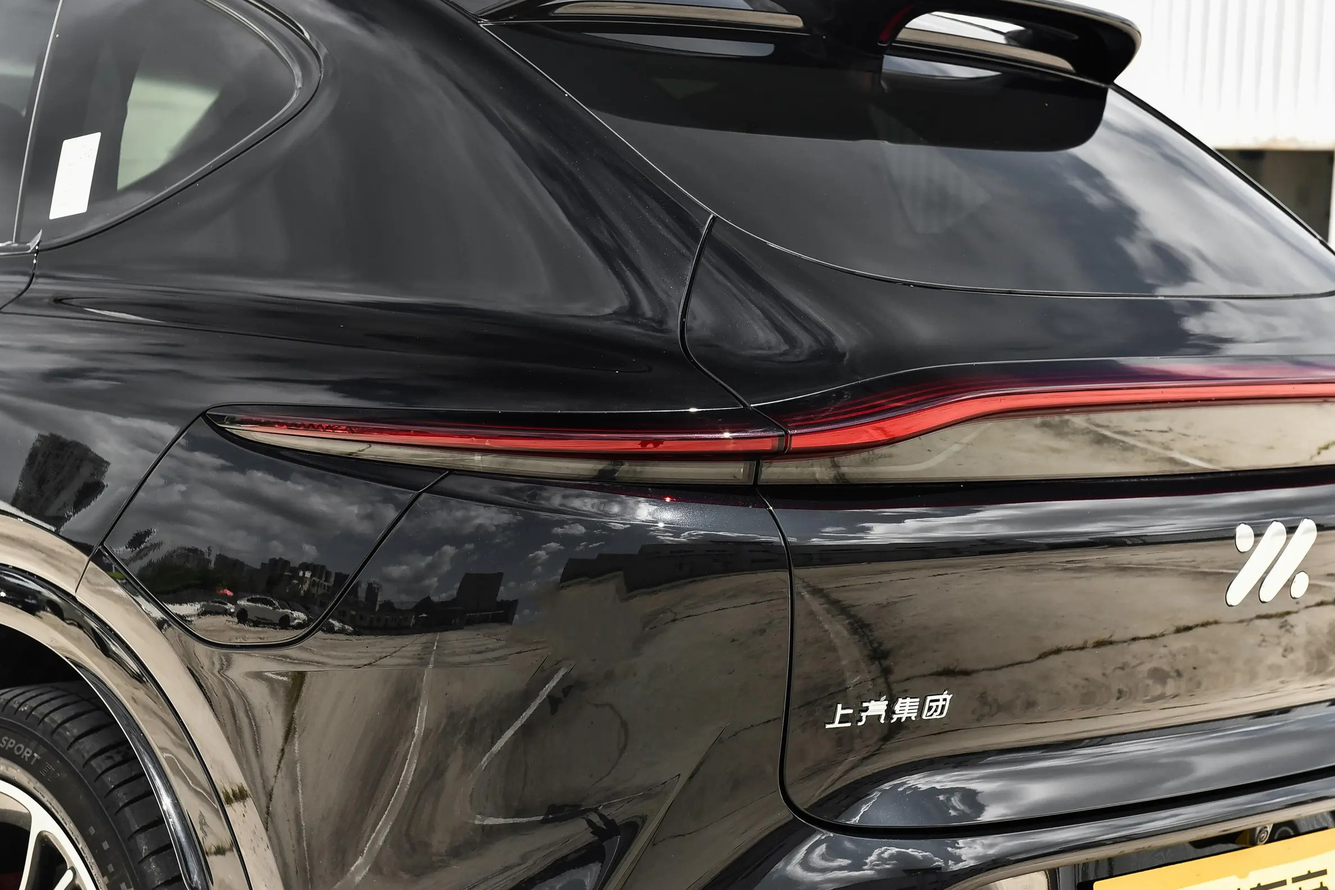IM: (1226, 520, 1317, 605)
